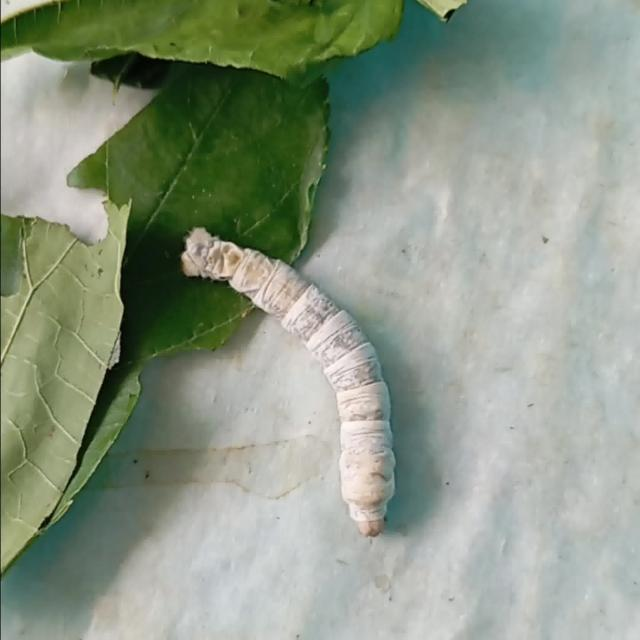Grasserie: (160, 200, 434, 562)
